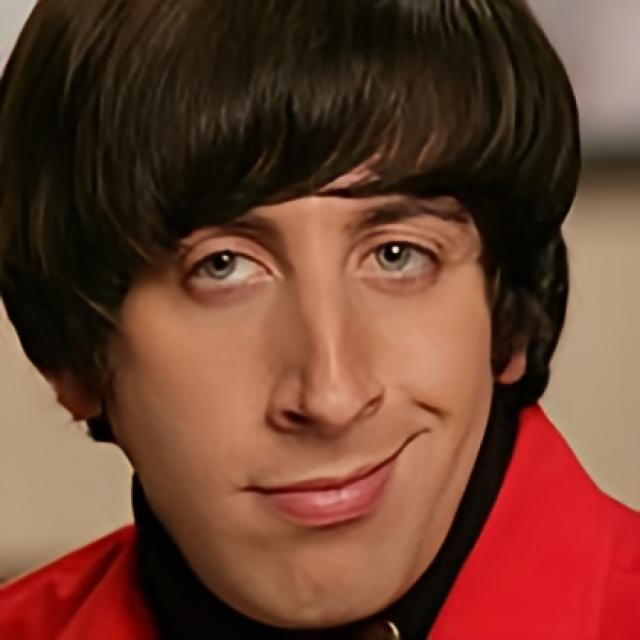content: (109, 57, 496, 627)
